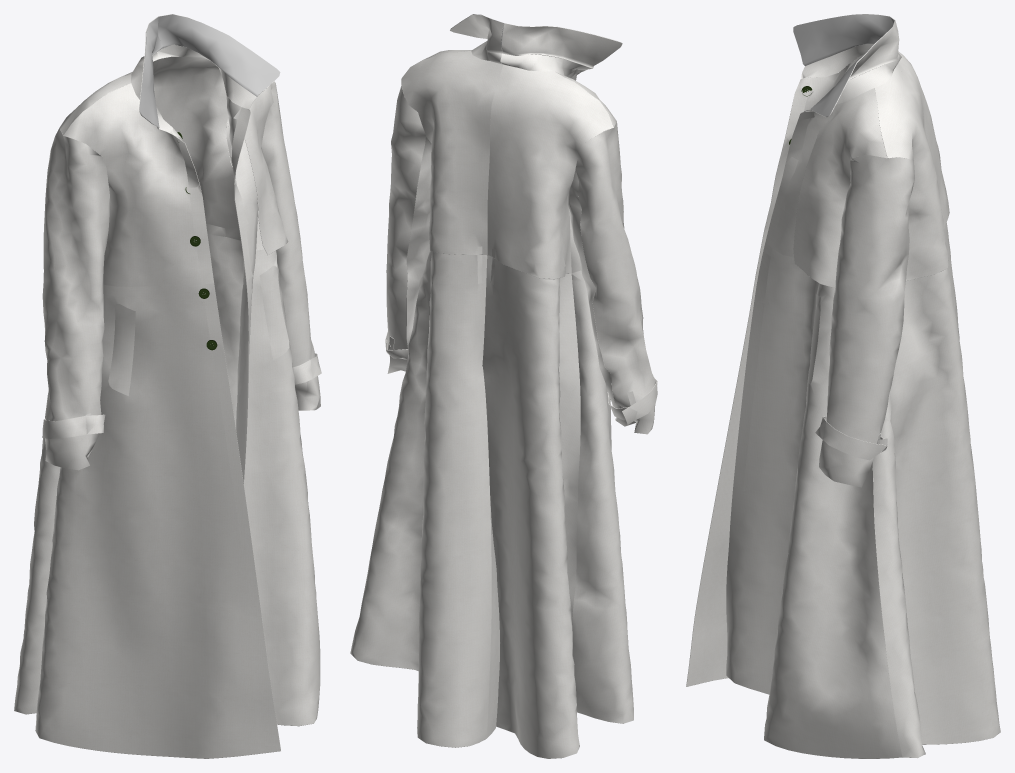
3 views of the same model, side by side, from view 1: azimuth 30°, elevation 25°; view 2: azimuth 150°, elevation 25°; view 3: azimuth 270°, elevation 25° (orthographic). The views are drawn at different scales.
Parts seen in each view (by area): view 1: Pattern2D_186845, Pattern2D_161825, Sleeves (×2), Pattern2D_152068, Pattern2D_186846, Collar (×2), Pattern2D_2084200, Sleeves_Strap (×2), Collar_Stand (×2), Pattern2D_2141753; view 2: Pattern2D_152068, Pattern2D_186846, Sleeves (×2), Pattern2D_2141753, Pattern2D_186845, Pattern2D_2141752, Sleeves_Panel (×2), Collar (×2), Collar_Stand, Sleeves_Strap; view 3: Pattern2D_161825, Pattern2D_152068, Sleeves, Pattern2D_186845, Pattern2D_2084200, Pattern2D_2141752, Collar (×3), Collar_Stand (×2), Pattern2D_2141753, Sleeves_Strap.
Part boxes in pixels (x1,y1,x2,y2): Pattern2D_186845: (35, 83, 280, 758); Pattern2D_161825: (226, 96, 320, 726); Sleeves (×2): (42, 83, 320, 470); Pattern2D_152068: (153, 56, 243, 427); Pattern2D_186846: (14, 59, 159, 714); Collar (×2): (139, 14, 280, 128); Pattern2D_2084200: (244, 81, 288, 254); Sleeves_Strap (×2): (42, 353, 321, 438); Collar_Stand (×2): (131, 44, 256, 134); Pattern2D_2141753: (59, 72, 132, 135); Pattern2D_152068: (350, 139, 499, 747); Pattern2D_186846: (482, 156, 580, 758); Sleeves (×2): (386, 86, 655, 434); Pattern2D_2141753: (487, 64, 613, 279); Pattern2D_186845: (556, 69, 633, 723); Pattern2D_2141752: (401, 51, 502, 255); Sleeves_Panel (×2): (406, 136, 635, 426); Collar (×2): (450, 14, 622, 68); Collar_Stand: (500, 53, 592, 76); Sleeves_Strap: (607, 377, 657, 424); Pattern2D_161825: (726, 88, 902, 758); Pattern2D_152068: (872, 268, 1000, 757); Sleeves: (819, 155, 914, 487); Pattern2D_186845: (686, 54, 863, 686); Pattern2D_2084200: (793, 93, 887, 287); Pattern2D_2141752: (874, 65, 948, 280); Collar (×3): (793, 14, 899, 117); Collar_Stand (×2): (801, 44, 901, 111); Pattern2D_2141753: (897, 51, 949, 228); Sleeves_Strap: (815, 416, 887, 460).
Size of the model in its own units: 59.89 by 146 by 59.03.
